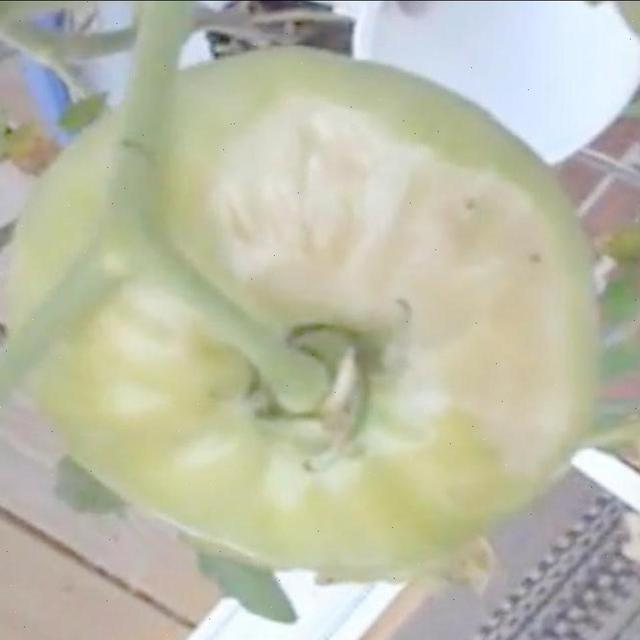Sunscald Fruit: (128, 64, 388, 330)
